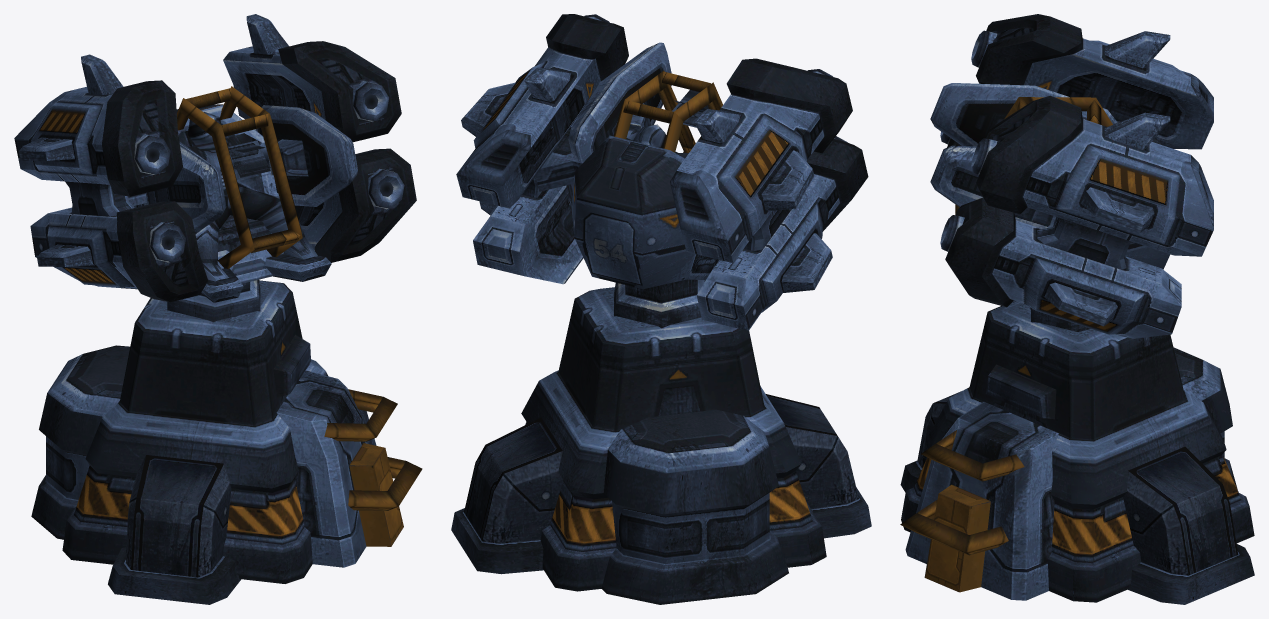
File: MissileTurret.FBX
The picture shows the model from 3 angles, left to right: view 1: azimuth 30°, elevation 25°; view 2: azimuth 150°, elevation 25°; view 3: azimuth 270°, elevation 25°; orthographic projection. The views are drawn at different scales.
Parts seen in each view (by area): view 1: MissileTurret001, MissileTurret; view 2: MissileTurret001, MissileTurret; view 3: MissileTurret001, MissileTurret.
Part boxes in pixels (x1=…): MissileTurret001: x1=31, y1=280, x2=422, y2=604; MissileTurret: x1=14, y1=14, x2=416, y2=309; MissileTurret001: x1=451, y1=280, x2=871, y2=604; MissileTurret: x1=456, y1=14, x2=868, y2=330; MissileTurret001: x1=900, y1=300, x2=1254, y2=604; MissileTurret: x1=930, y1=14, x2=1213, y2=338.
Size of the model in its own units: 1.29 by 1.76 by 1.21.
Materials: 1 (1 with a texture image).
